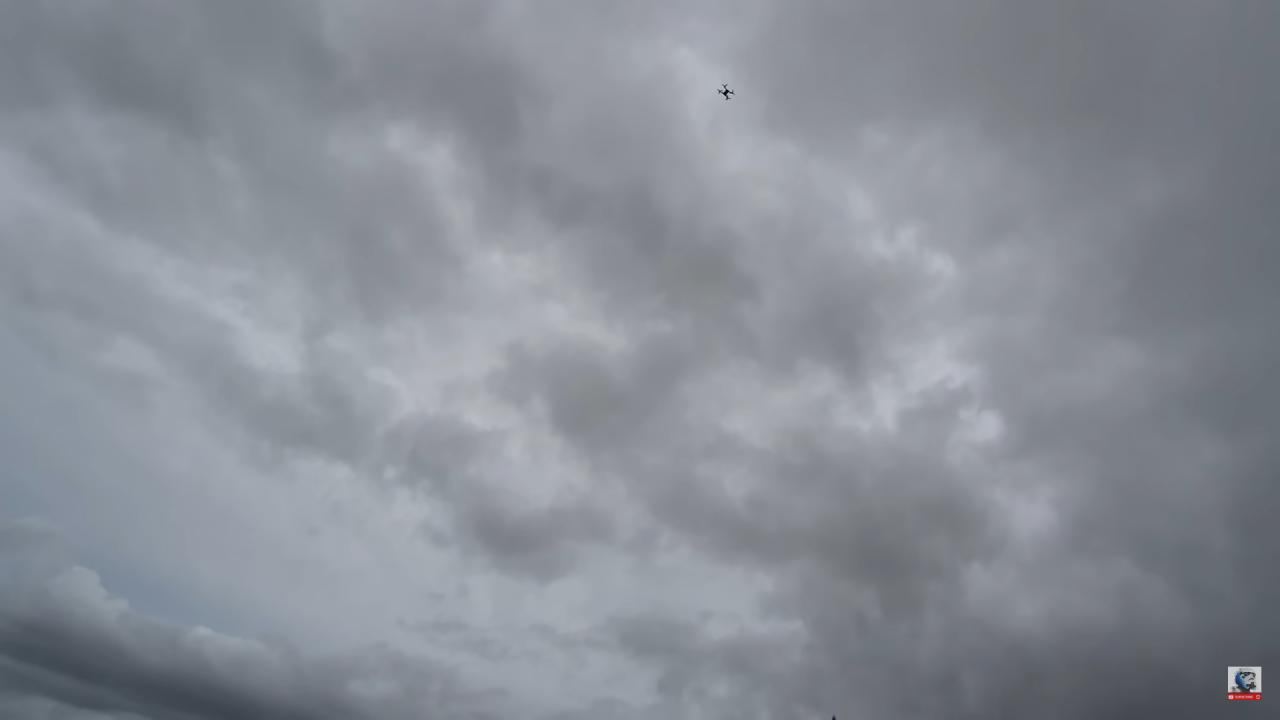Drone: (714, 78, 737, 105)
